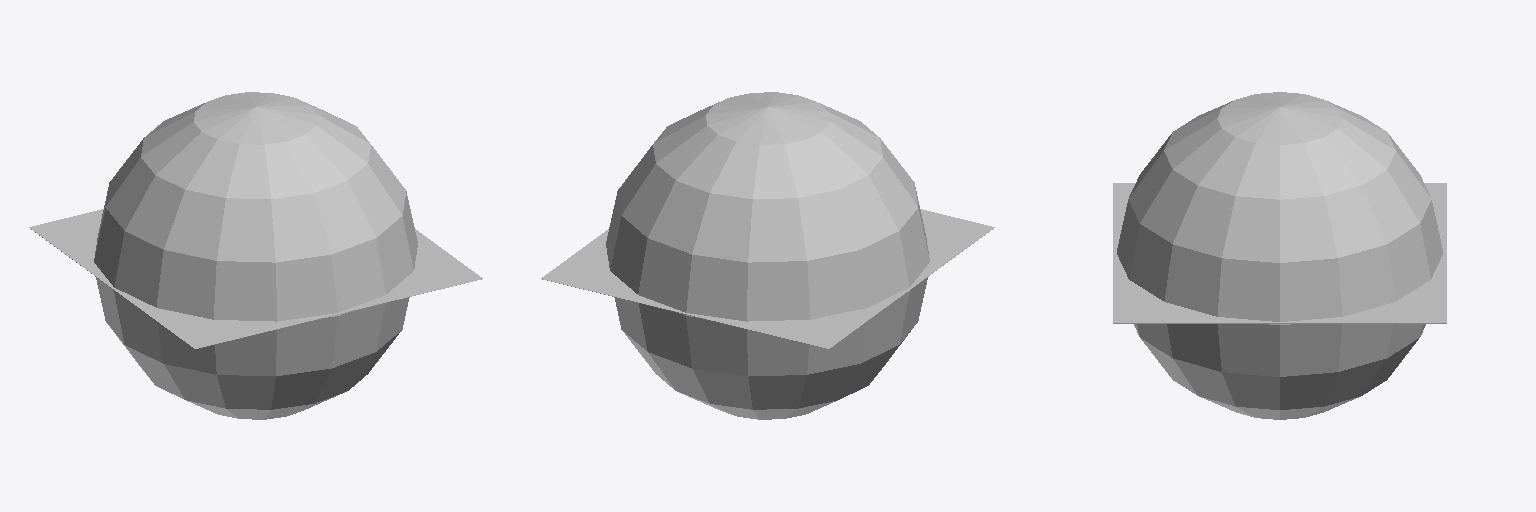
Rendered from march.obj.
3 views of the same model, side by side, from view 1: azimuth 30°, elevation 25°; view 2: azimuth 150°, elevation 25°; view 3: azimuth 270°, elevation 25° (orthographic).
Parts seen in each view (by area): view 1: Sphere01, ground; view 2: Sphere01, ground; view 3: Sphere01, ground.
Boxes of the visible parts, <box> form: Sphere01: <box>94,92,417,419</box>; ground: <box>29,209,482,348</box>; Sphere01: <box>606,92,929,419</box>; ground: <box>541,209,994,348</box>; Sphere01: <box>1117,92,1442,419</box>; ground: <box>1113,183,1446,323</box>.
Size of the model in its own units: 322 by 318 by 322.